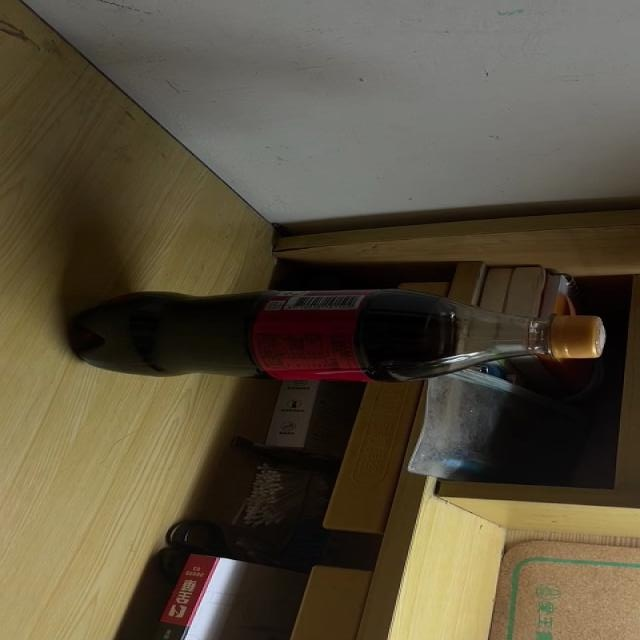Coca-Cola: (75, 292, 607, 381)
